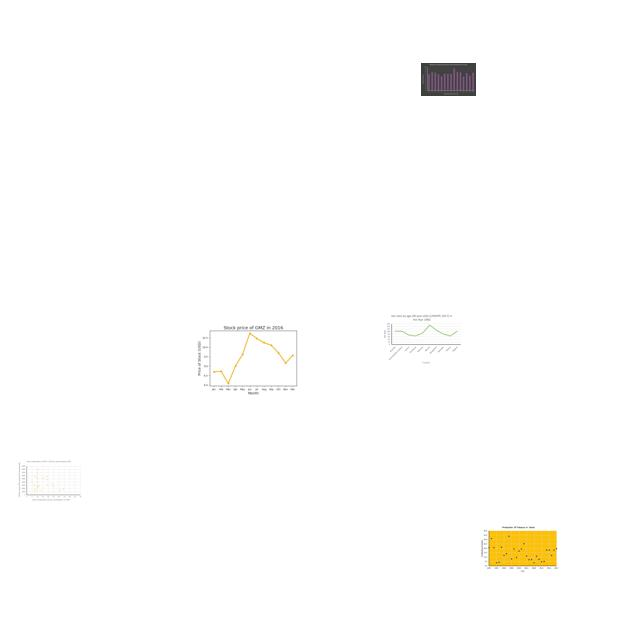Graph: (196, 316, 308, 400), (382, 313, 461, 365), (479, 525, 560, 574), (17, 459, 82, 502), (421, 63, 476, 96)
